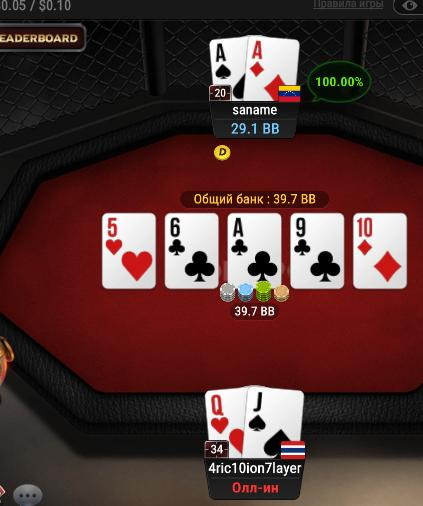10d: (353, 214, 405, 288)
5h: (103, 214, 155, 287)
6c: (165, 214, 221, 289)
9c: (293, 213, 345, 287)
Ac: (229, 215, 280, 287)
Ad: (245, 33, 300, 98)
As: (209, 35, 245, 101)
Js: (246, 387, 303, 457)
Qh: (204, 388, 245, 455)
